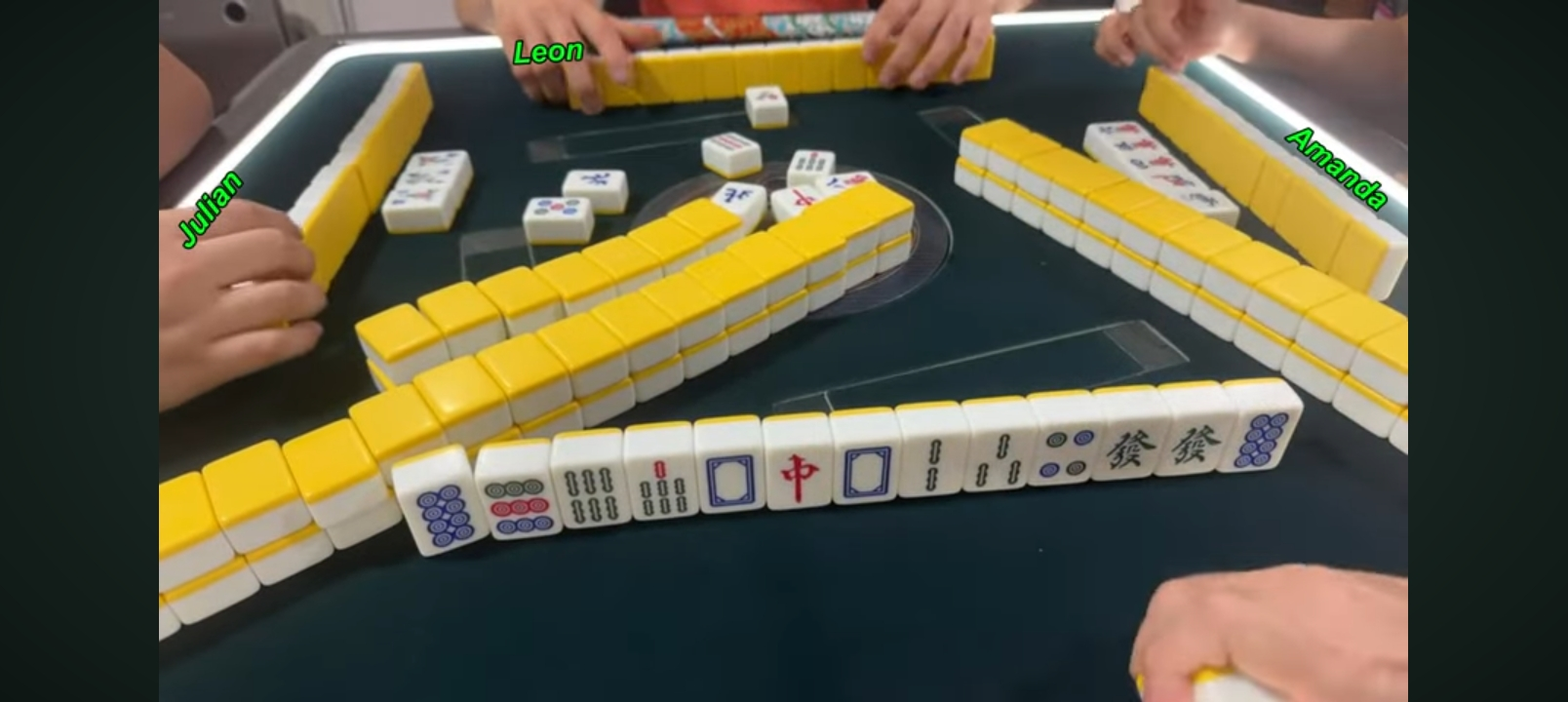TILE: (408, 473, 475, 557), (481, 473, 559, 537), (555, 464, 633, 527), (624, 456, 701, 517), (693, 449, 766, 509), (1228, 412, 1301, 472), (967, 427, 1036, 490), (1098, 419, 1168, 479), (899, 435, 966, 496), (834, 441, 898, 501), (1162, 416, 1230, 472), (1039, 423, 1102, 482), (768, 448, 832, 506)
